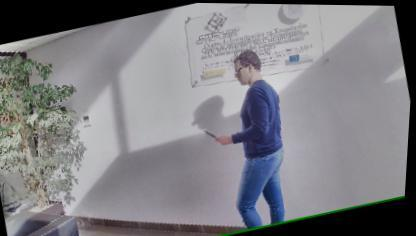knife: (202, 122, 226, 144)
